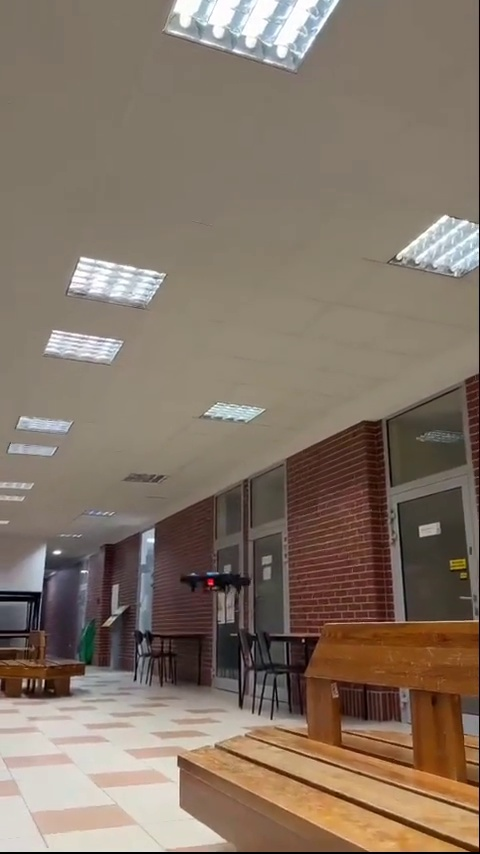drone: (177, 569, 255, 602)
